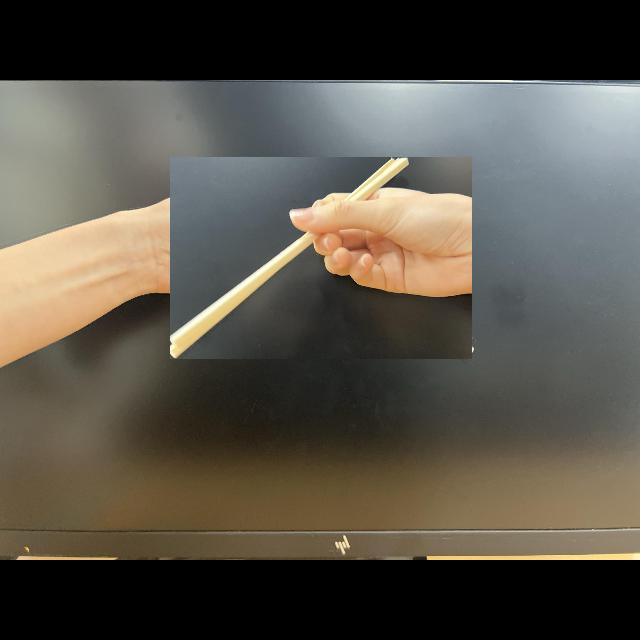stick: (169, 158, 471, 358)
